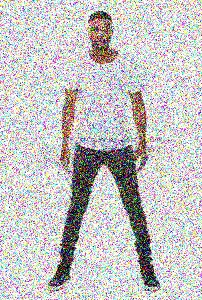arm: (125, 64, 151, 143), (62, 61, 80, 145)
chest: (80, 62, 127, 147)
face: (88, 10, 114, 47)
foot: (47, 266, 78, 289), (138, 266, 163, 293)
hand: (134, 143, 151, 172), (60, 146, 70, 169)
leg: (105, 168, 154, 260), (64, 170, 104, 266)
neck: (89, 47, 117, 61)
